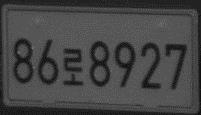2: (140, 41, 161, 90)
6: (37, 38, 59, 85)
7: (163, 41, 188, 92)
8: (12, 37, 34, 83), (89, 40, 111, 86)
9: (113, 41, 136, 88)
로: (61, 46, 84, 87)
